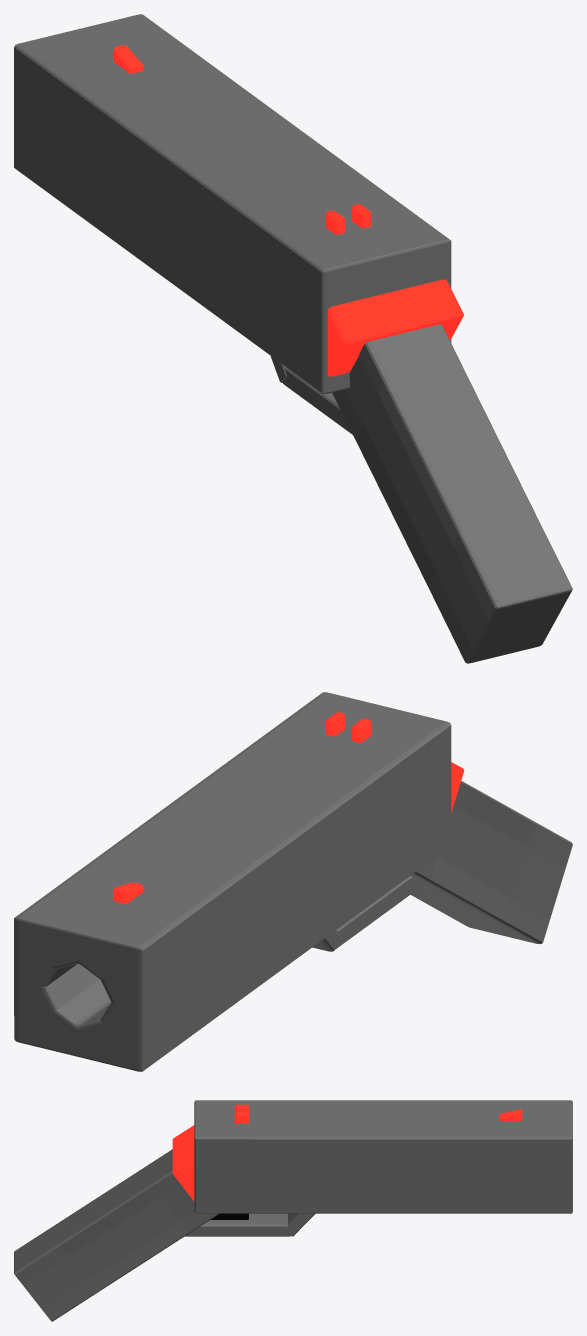
The model's file is Shotgun-basic-model.fbx.
The picture shows the model from 3 angles, top to bottom: view 1: azimuth 30°, elevation 25°; view 2: azimuth 150°, elevation 25°; view 3: azimuth 270°, elevation 25°; orthographic projection. The views are drawn at different scales.
Visible parts, largest first — view 1: Shotgun-basic; view 2: Shotgun-basic; view 3: Shotgun-basic.
Boxes of the visible parts, <box> form: Shotgun-basic: <box>14,14,572,663</box>; Shotgun-basic: <box>14,692,572,1071</box>; Shotgun-basic: <box>14,1100,572,1321</box>.
Bounding box in the file's own units: 119 × 290 × 728.
